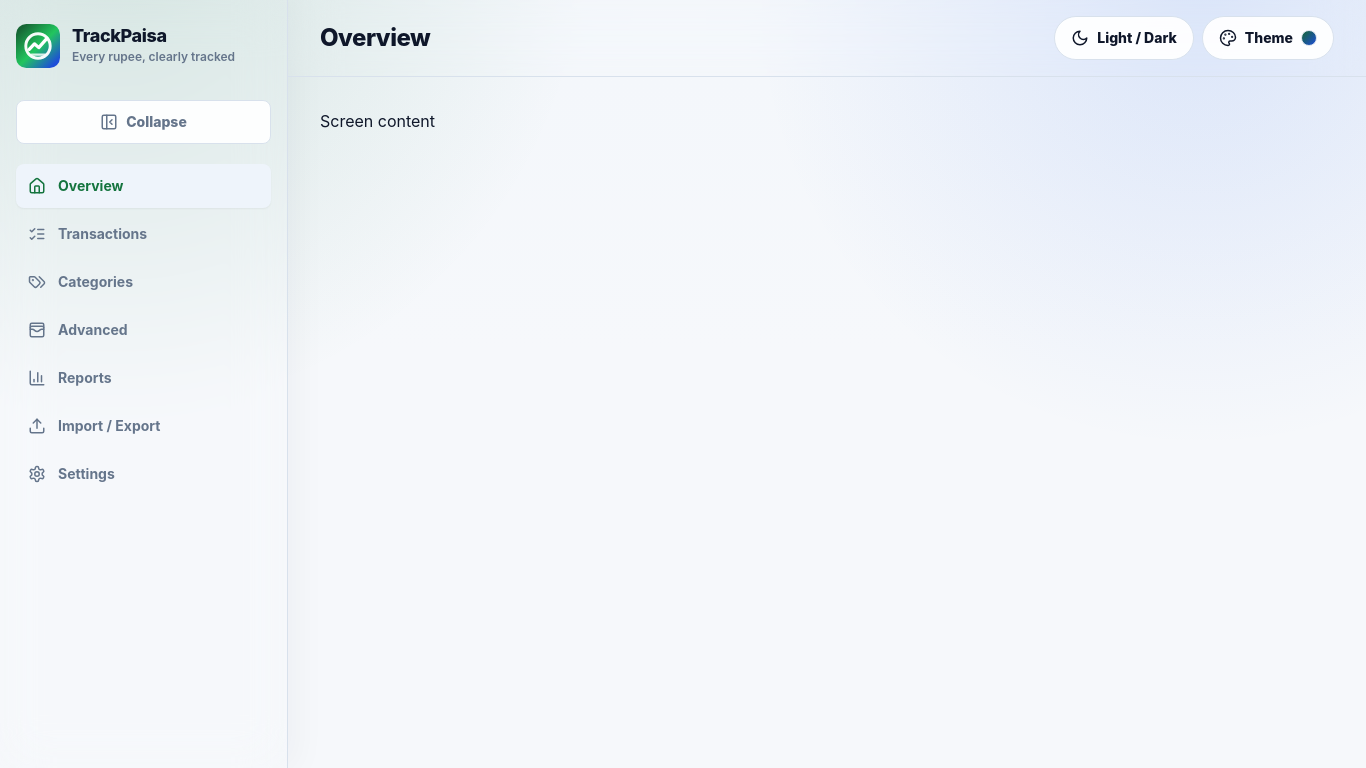
Scenario: AppShell responsive layout contract › keeps sidebar state separate from appearance state
This screenshot has width=1366, height=768.
Click the button with aria-label "Collapse sidebar" at (144, 122), box [16, 100, 271, 144]
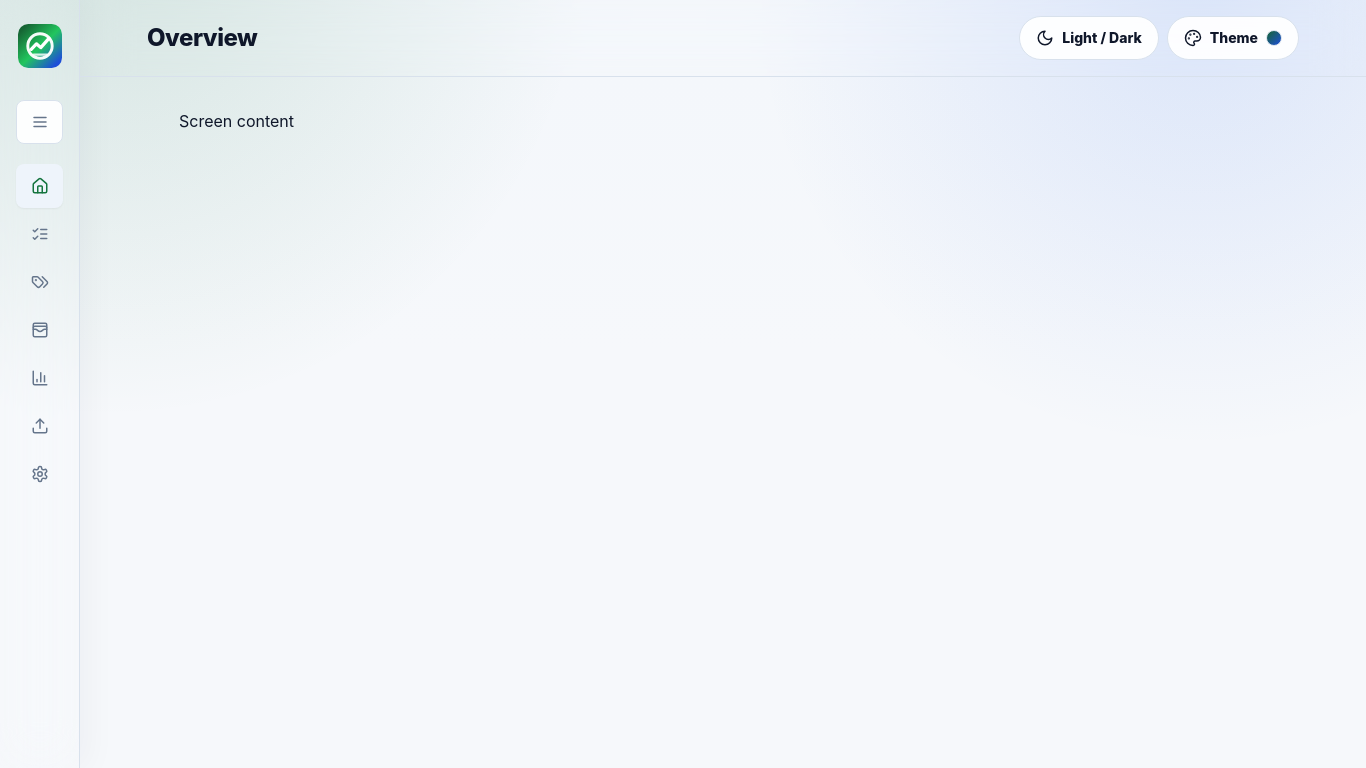
Now the button named "Expand sidebar" is shown, box [16, 100, 63, 144]
